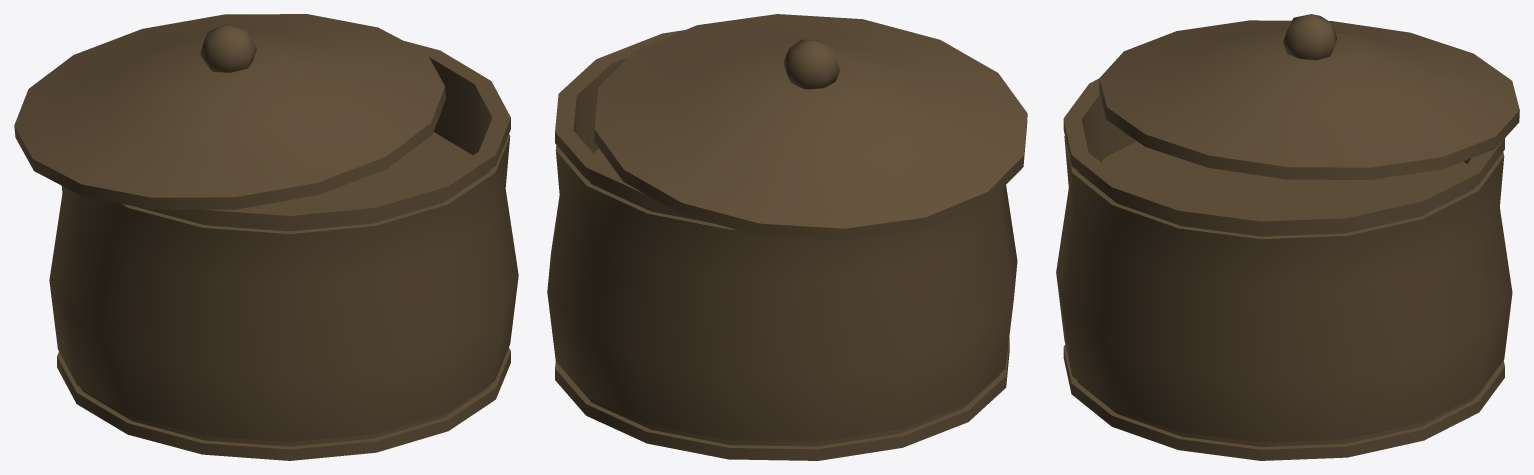
File: Potinho .fbx
3 views of the same model, side by side, from view 1: azimuth 30°, elevation 25°; view 2: azimuth 150°, elevation 25°; view 3: azimuth 270°, elevation 25° (orthographic). The views are drawn at different scales.
Parts seen in each view (by area): view 1: 2 Little box_Material #14_0; view 2: 2 Little box_Material #14_0; view 3: 2 Little box_Material #14_0.
Boxes of the visible parts, left/top/right/bottom form: 2 Little box_Material #14_0: left=14, top=14, right=518, bottom=460; 2 Little box_Material #14_0: left=547, top=14, right=1027, bottom=460; 2 Little box_Material #14_0: left=1056, top=14, right=1519, bottom=460.
Size of the model in its own units: 8.25 by 6.25 by 7.9.
